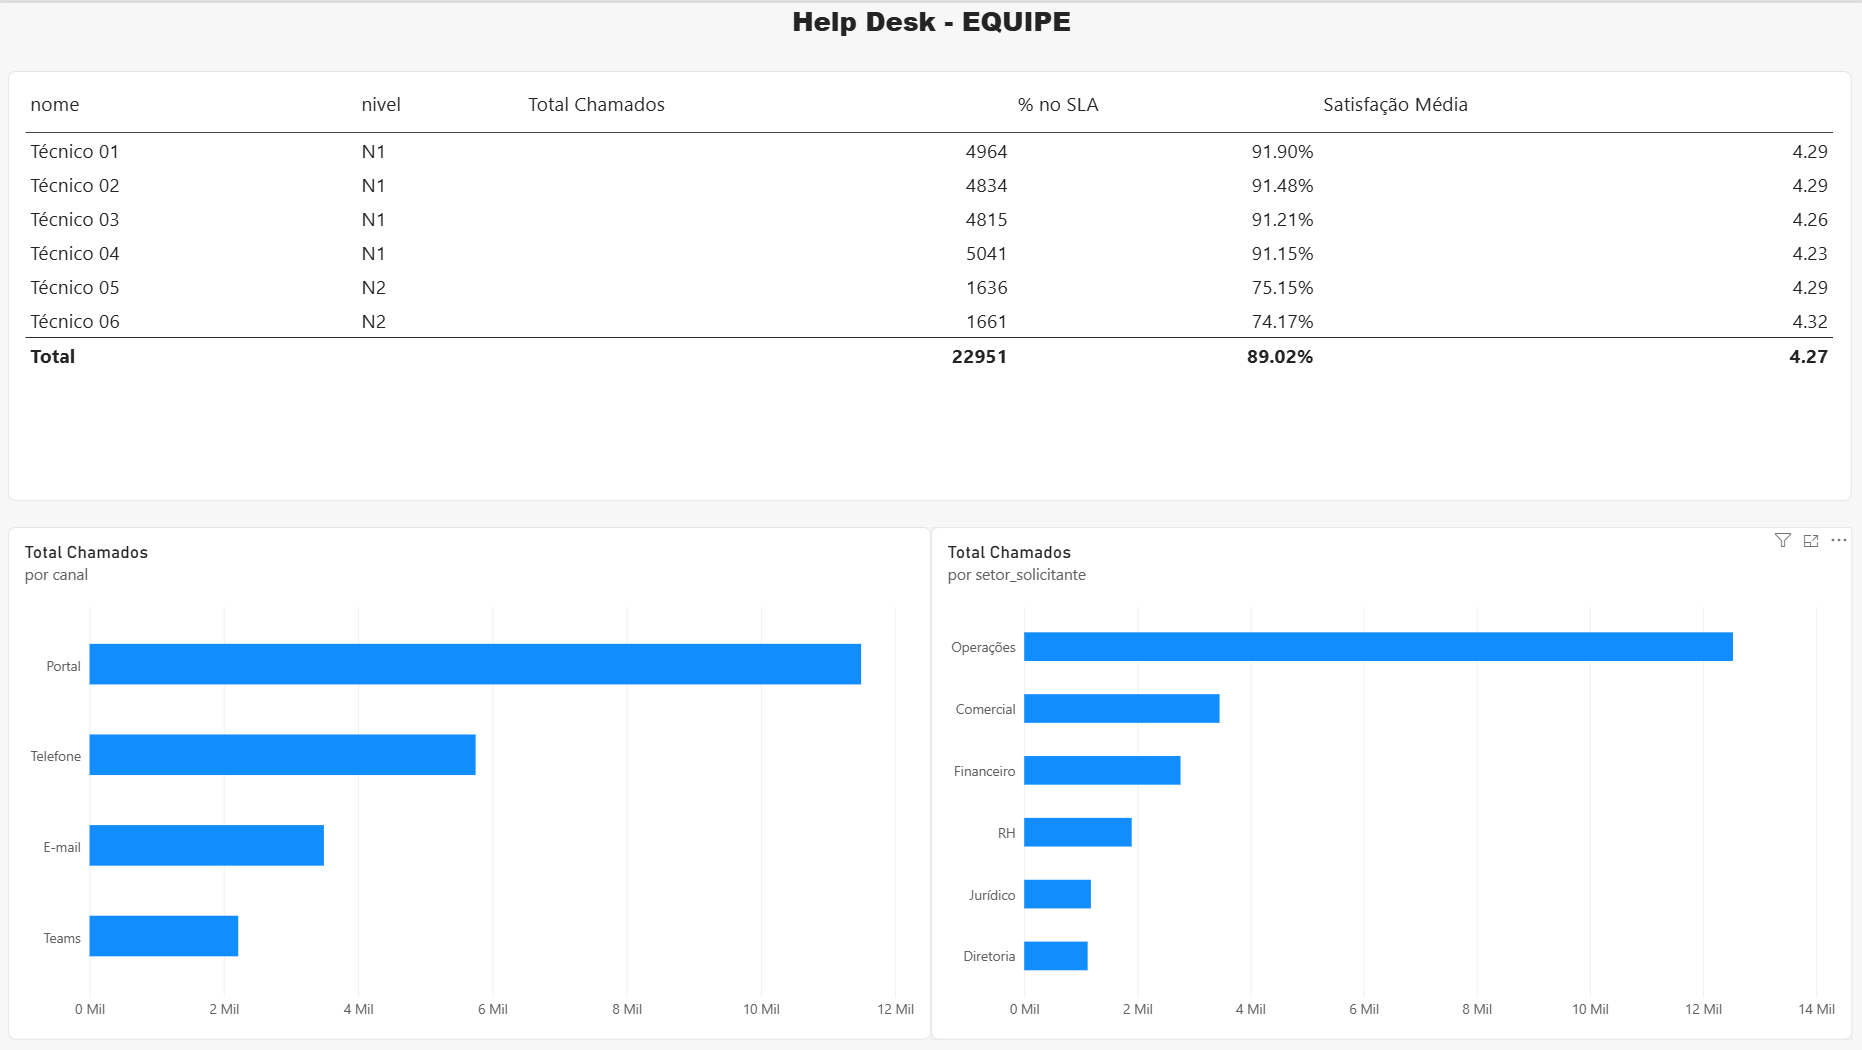

Layout of this report page (visuals, bound fields, positions):
{"tool":"powerbi","page":{"name":"Equipe","canvas":[1920,1080],"ordinal":2},"visuals":[{"type":"textbox","box":[587.6,0,744.7,62.8],"z":0},{"type":"tableEx","fields":{"Values":["dTecnicos.nome","dTecnicos.nivel","fChamados.Total Chamados","fChamados.% no SLA","fChamados.Satisfação Média"]},"box":[9.3,70,1899.4,442.9],"z":1},{"type":"clusteredBarChart","fields":{"Category":["fChamados.canal"],"Y":["fChamados.Total Chamados"]},"box":[9.3,539.7,950.7,528.4],"z":2},{"type":"clusteredBarChart","fields":{"Category":["fChamados.setor_solicitante"],"Y":["fChamados.Total Chamados"]},"box":[960,539.7,948.7,528.4],"z":3}]}

Visuals, with their boxes in screenshot pixels (x1, y1, x2, y2), scaled from the page's 1920x1080 canvas onto the 1862x1050 screenshot:
textbox: l=570, t=0, r=1292, b=61
tableEx - dTecnicos.nome x dTecnicos.nivel: l=9, t=68, r=1851, b=499
clusteredBarChart - fChamados.canal x fChamados.Total Chamados: l=9, t=525, r=931, b=1038
clusteredBarChart - fChamados.setor_solicitante x fChamados.Total Chamados: l=931, t=525, r=1851, b=1038
